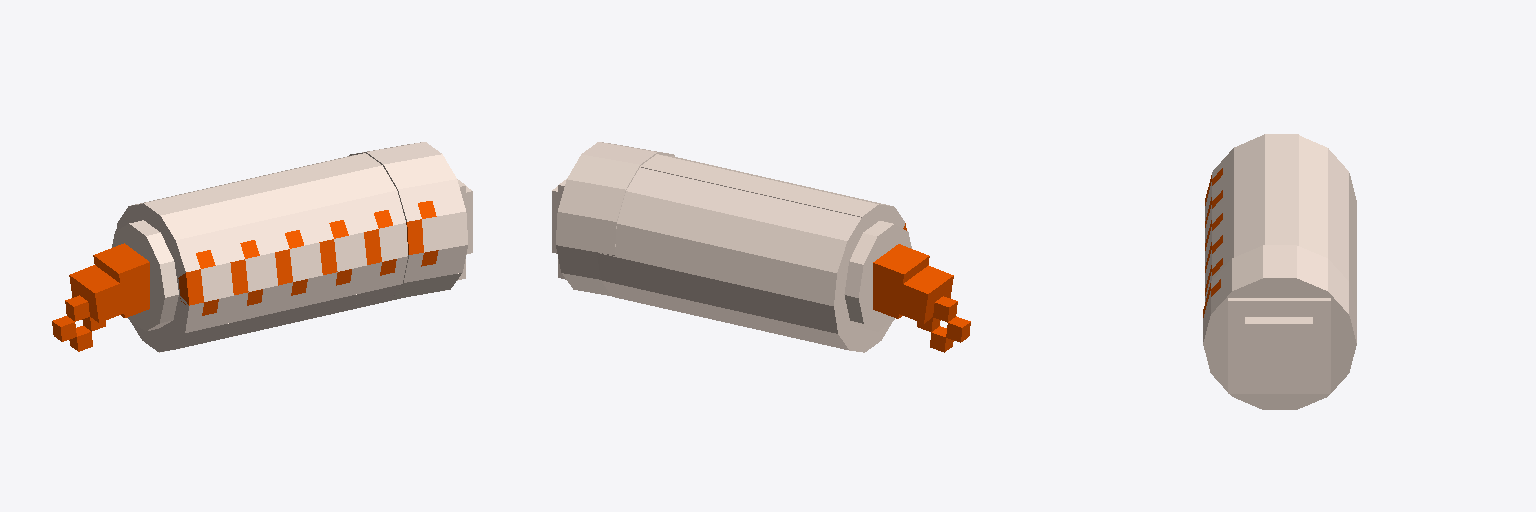
The picture shows the model from 3 angles: view 1: azimuth 30°, elevation 25°; view 2: azimuth 150°, elevation 25°; view 3: azimuth 270°, elevation 25°; orthographic projection.
Visible parts, largest first — view 1: Model; view 2: Model; view 3: Model.
Part boxes in pixels (x1,y1,x2,y2): Model: (52, 142, 472, 352); Model: (552, 142, 970, 352); Model: (1203, 134, 1356, 409).
Bounding box in the file's own units: 26.88 × 9.17 × 8.99.
Materials: 1 (1 with a texture image).